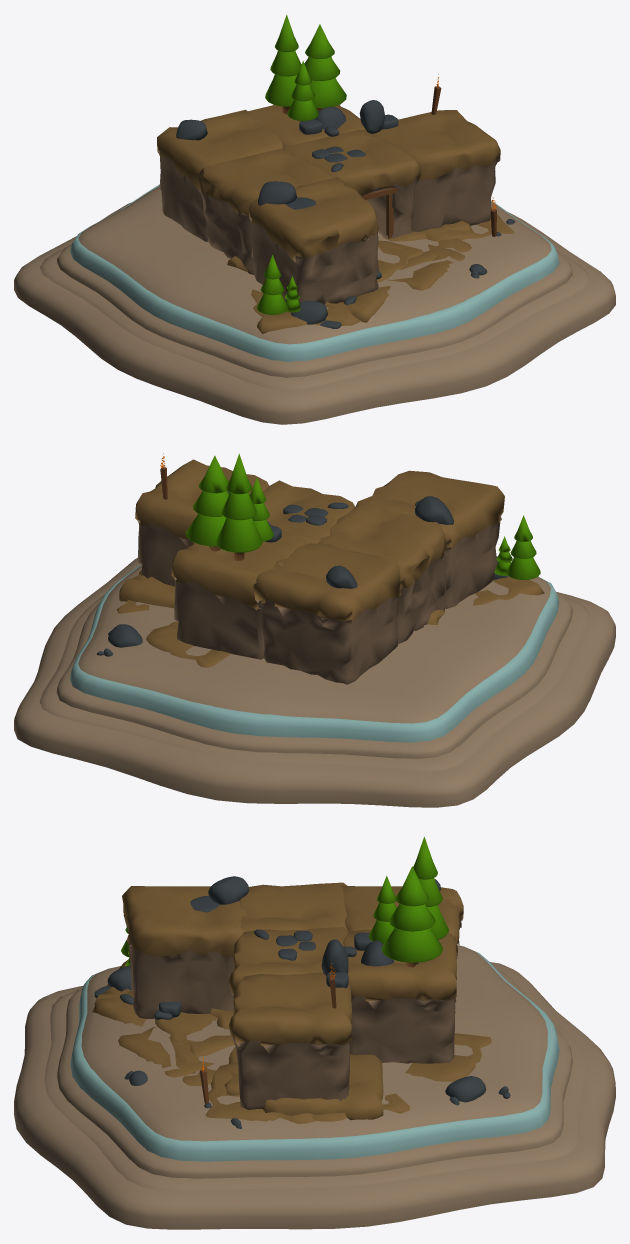
The model's file is ISLA_FINAL 1.fbx.
3 views of the same model, one above another, from view 1: azimuth 30°, elevation 25°; view 2: azimuth 150°, elevation 25°; view 3: azimuth 270°, elevation 25° (orthographic). The views are drawn at different scales.
Parts seen in each view (by area): view 1: stone.028, stone.031, stone.032, stone.037, stone.029, stone.030, stone.034, stone.033, stone.003, stone.036, stone.007, stone.008 (+7 smaller); view 2: stone.028, stone.031, stone.034, stone.029, stone.035, stone.030, stone.032, stone.033, stone.037, stone.003, stone.036, stone.008 (+6 smaller); view 3: stone.028, stone.031, stone.037, stone.003, stone.032, stone.029, stone.035, stone.030, stone.033, stone.036, stone.007, stone.034 (+5 smaller).
Boxes of the visible parts, left/top/right/bottom form: stone.028: left=70, top=184, right=559, bottom=361; stone.031: left=14, top=202, right=615, bottom=424; stone.032: left=249, top=177, right=378, bottom=304; stone.037: left=370, top=110, right=500, bottom=232; stone.029: left=57, top=244, right=572, bottom=377; stone.030: left=39, top=246, right=589, bottom=389; stone.034: left=157, top=109, right=283, bottom=241; stone.033: left=197, top=149, right=334, bottom=274; stone.003: left=227, top=214, right=514, bottom=333; stone.036: left=283, top=129, right=420, bottom=238; stone.007: left=304, top=24, right=346, bottom=111; stone.008: left=265, top=14, right=301, bottom=114; stone.028: left=70, top=564, right=559, bottom=742; stone.031: left=14, top=557, right=615, bottom=807; stone.034: left=253, top=543, right=401, bottom=684; stone.029: left=56, top=593, right=572, bottom=758; stone.035: left=171, top=531, right=306, bottom=659; stone.030: left=39, top=594, right=589, bottom=771; stone.032: left=356, top=470, right=504, bottom=608; stone.033: left=317, top=501, right=446, bottom=643; stone.037: left=135, top=459, right=269, bottom=586; stone.003: left=117, top=570, right=544, bottom=667; stone.036: left=263, top=480, right=354, bottom=544; stone.008: left=216, top=453, right=262, bottom=560; stone.028: left=70, top=945, right=559, bottom=1161; stone.031: left=14, top=962, right=615, bottom=1229; stone.037: left=228, top=972, right=351, bottom=1109; stone.003: left=92, top=960, right=491, bottom=1123; stone.032: left=122, top=886, right=245, bottom=1018; stone.029: left=57, top=988, right=572, bottom=1178; stone.035: left=343, top=929, right=456, bottom=1063; stone.030: left=44, top=968, right=585, bottom=1191; stone.033: left=236, top=882, right=347, bottom=932; stone.036: left=228, top=927, right=349, bottom=996; stone.007: left=381, top=866, right=442, bottom=967; stone.034: left=341, top=886, right=463, bottom=1013.
Bounding box in the file's own units: 1131 × 652 × 1146.
